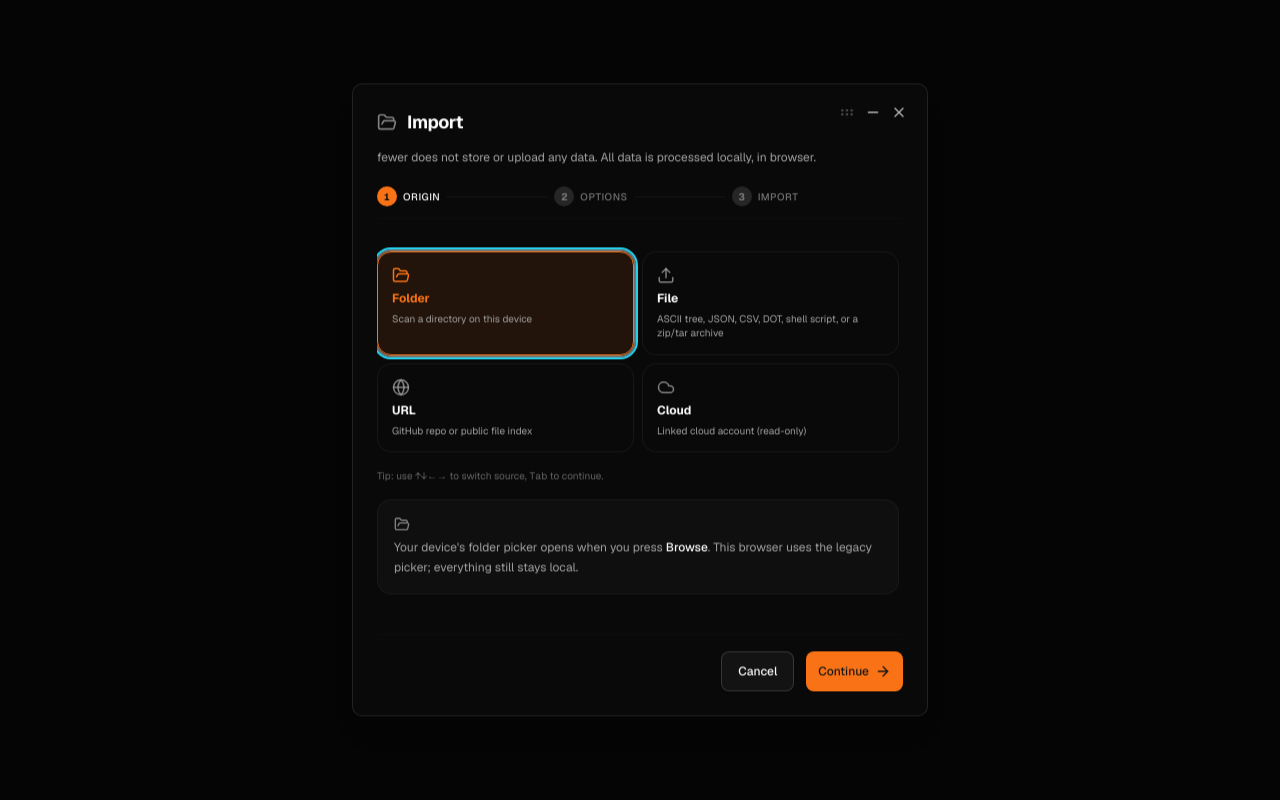
ImportFlowDialog state and step-3 import › a folder import keeps the full option set
// Folder needs no content to advance, so Continue lands on the options step.
Click the button "Continue".
click(855, 672)  # box [806,652,903,692]
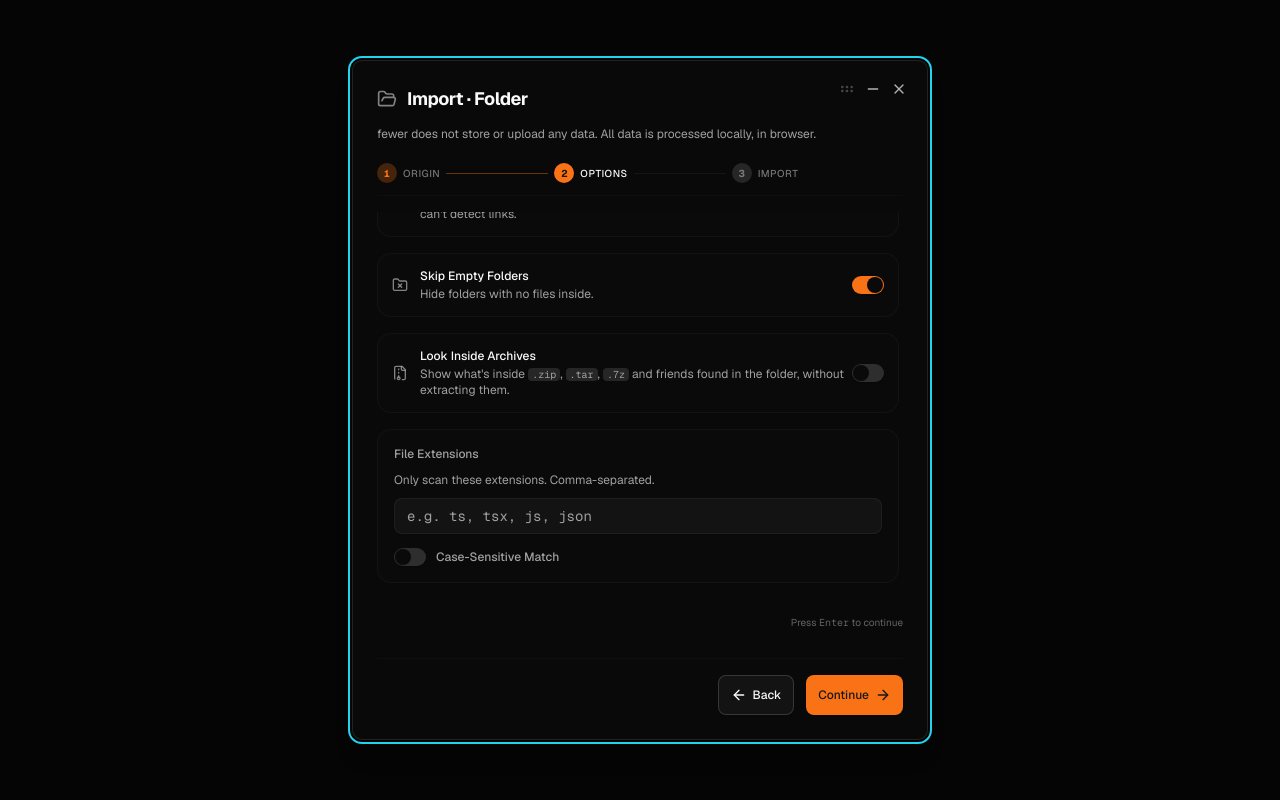
Expected: the switch named "Skip Empty Folders" in the row of "Hide folders with no files inside." is shown, [852,276,884,294]
Expected: the switch named "Look Inside Archives" in the row of ".7z" is shown, [852,364,884,382]
Expected: the text "File Extensions" is shown, [394,446,479,462]
